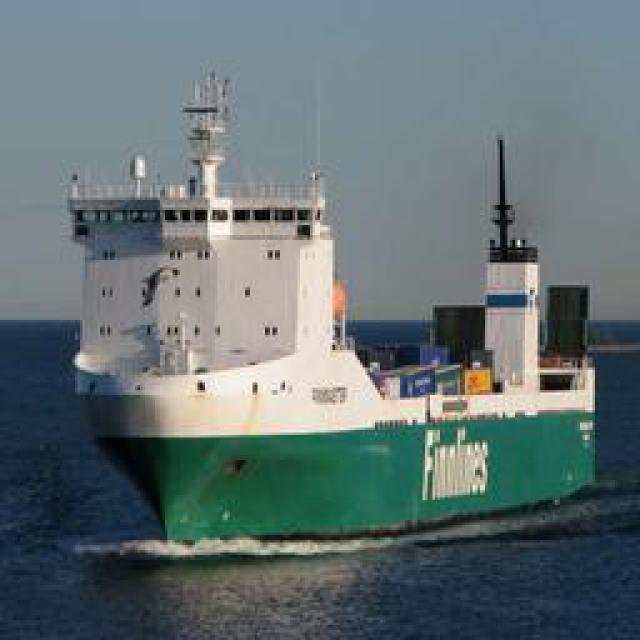Ship: (76, 49, 601, 544)
